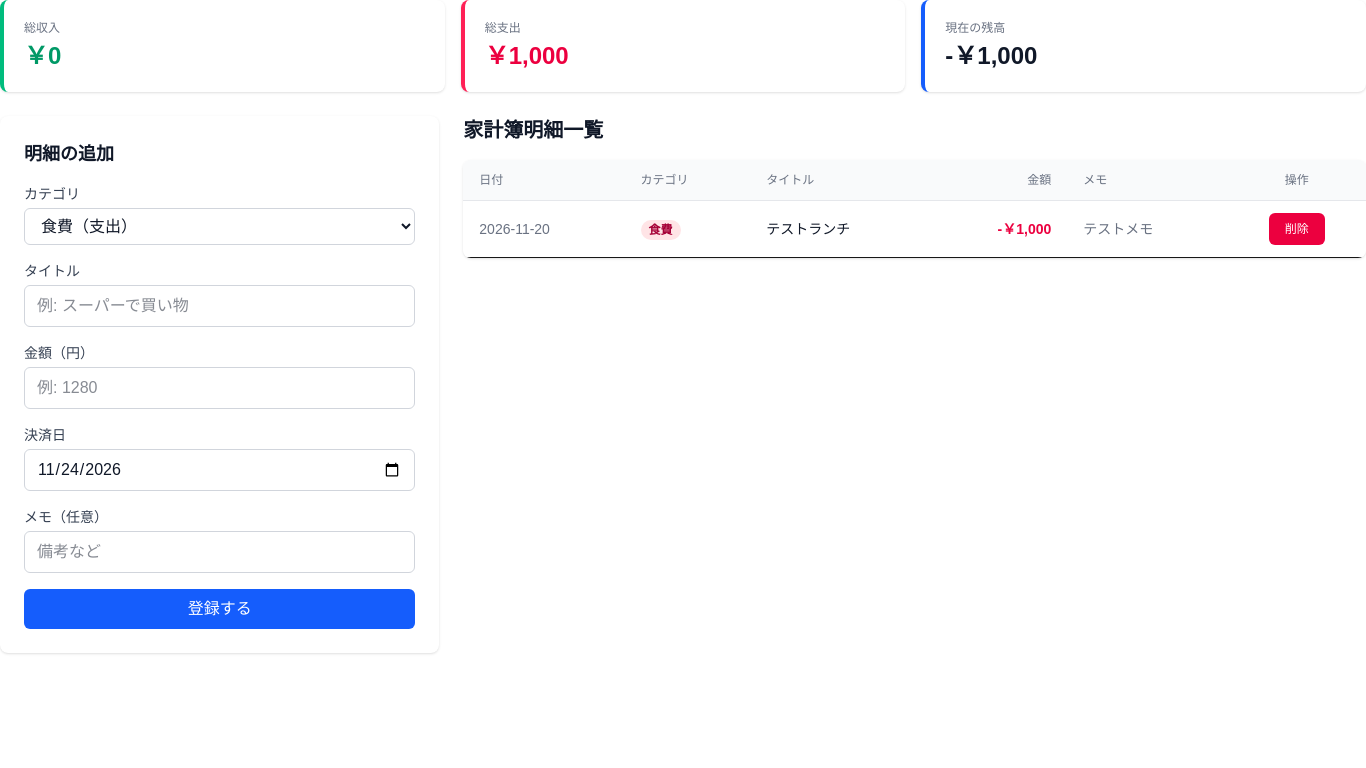
it: TransactionSection › 不正な入力値で送信した場合はバリデーションエラーを表示すること
Expected: the text "テストランチ" is shown, [750,200,933,258]
Click the button "登録する" at (220, 609), box [24,589,415,629]
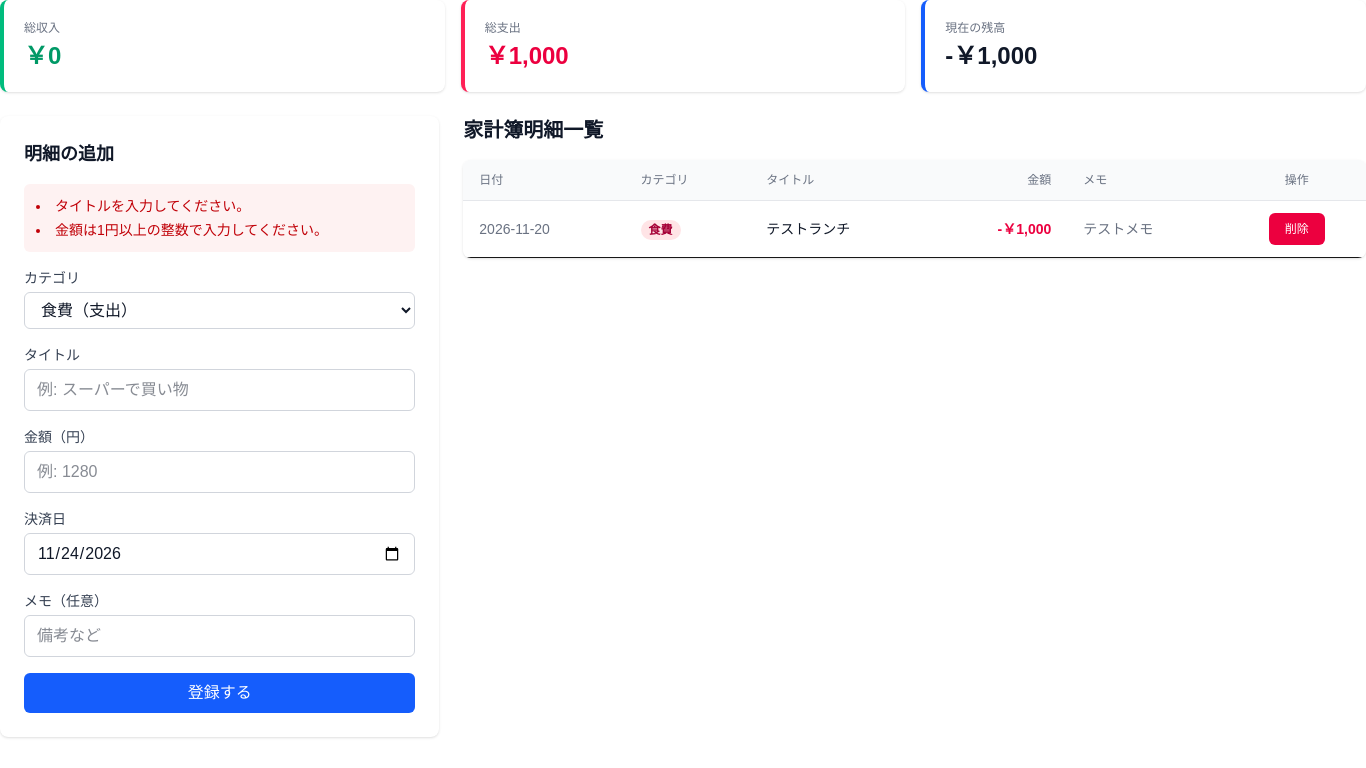
Expected: the list item "タイトルを入力してください。" is shown, [55,198,250,214]
Expected: the list item "金額は1円以上の整数で入力してください。" is shown, [55,222,328,238]
